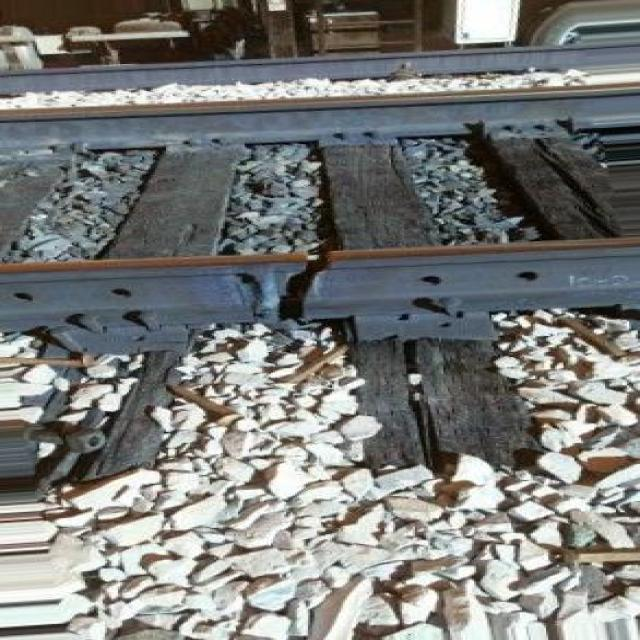crack: (238, 222, 367, 338)
